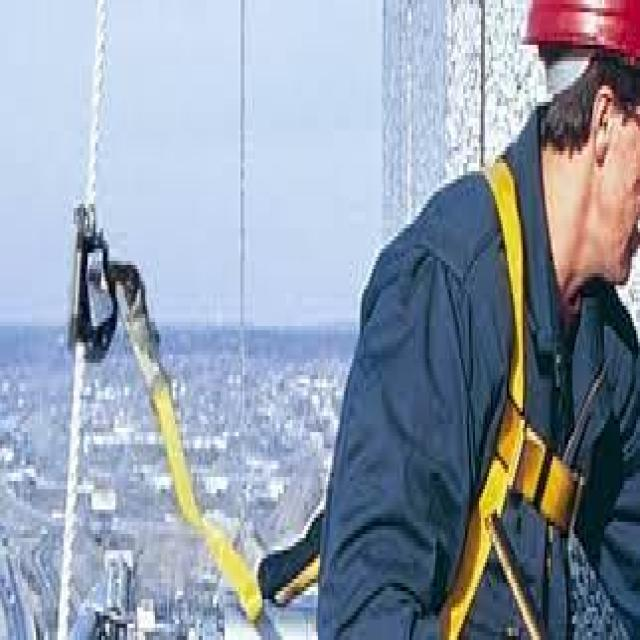harness: (87, 207, 293, 619)
